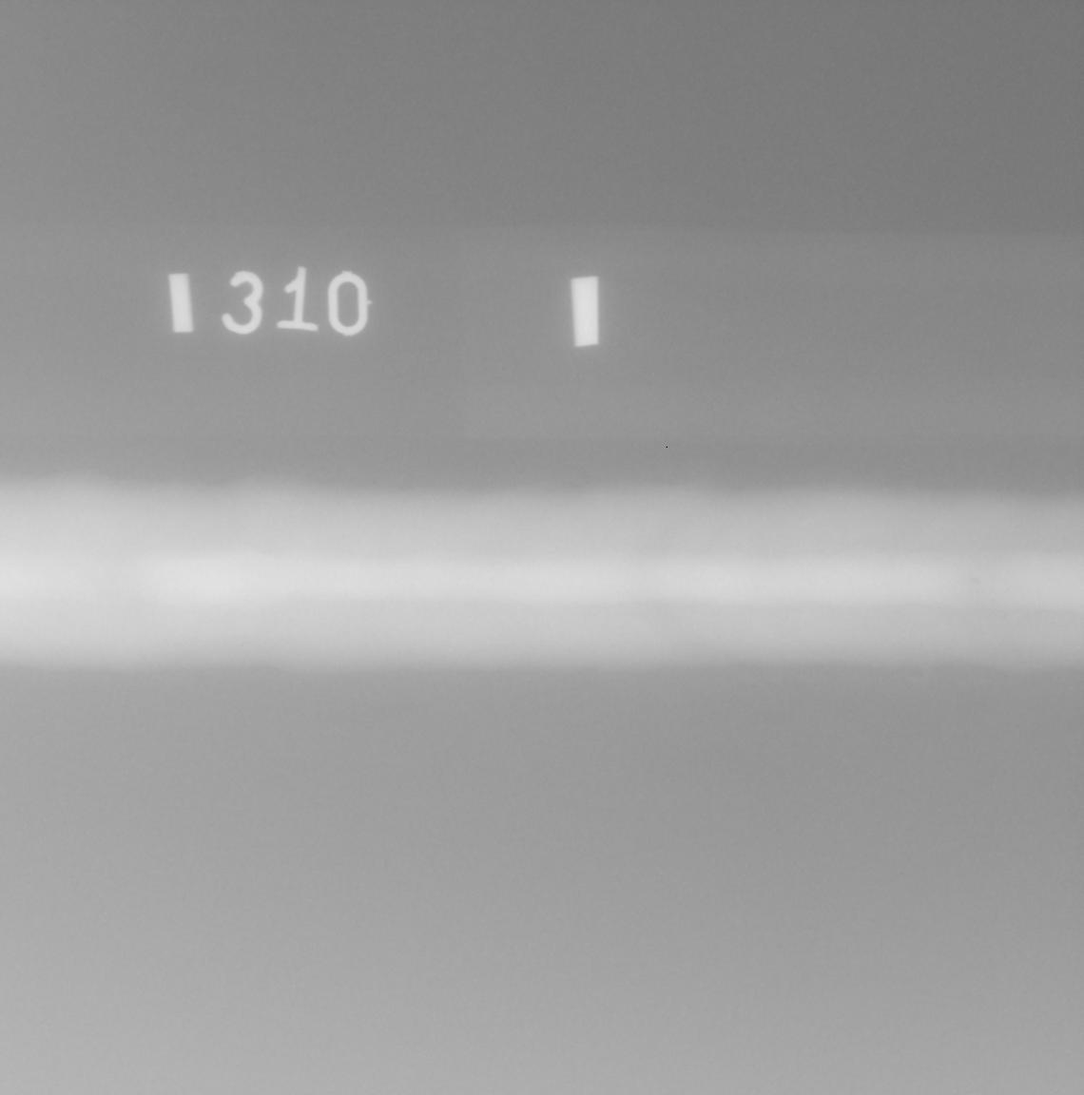Pore/Porosity: (971, 577, 981, 584)
